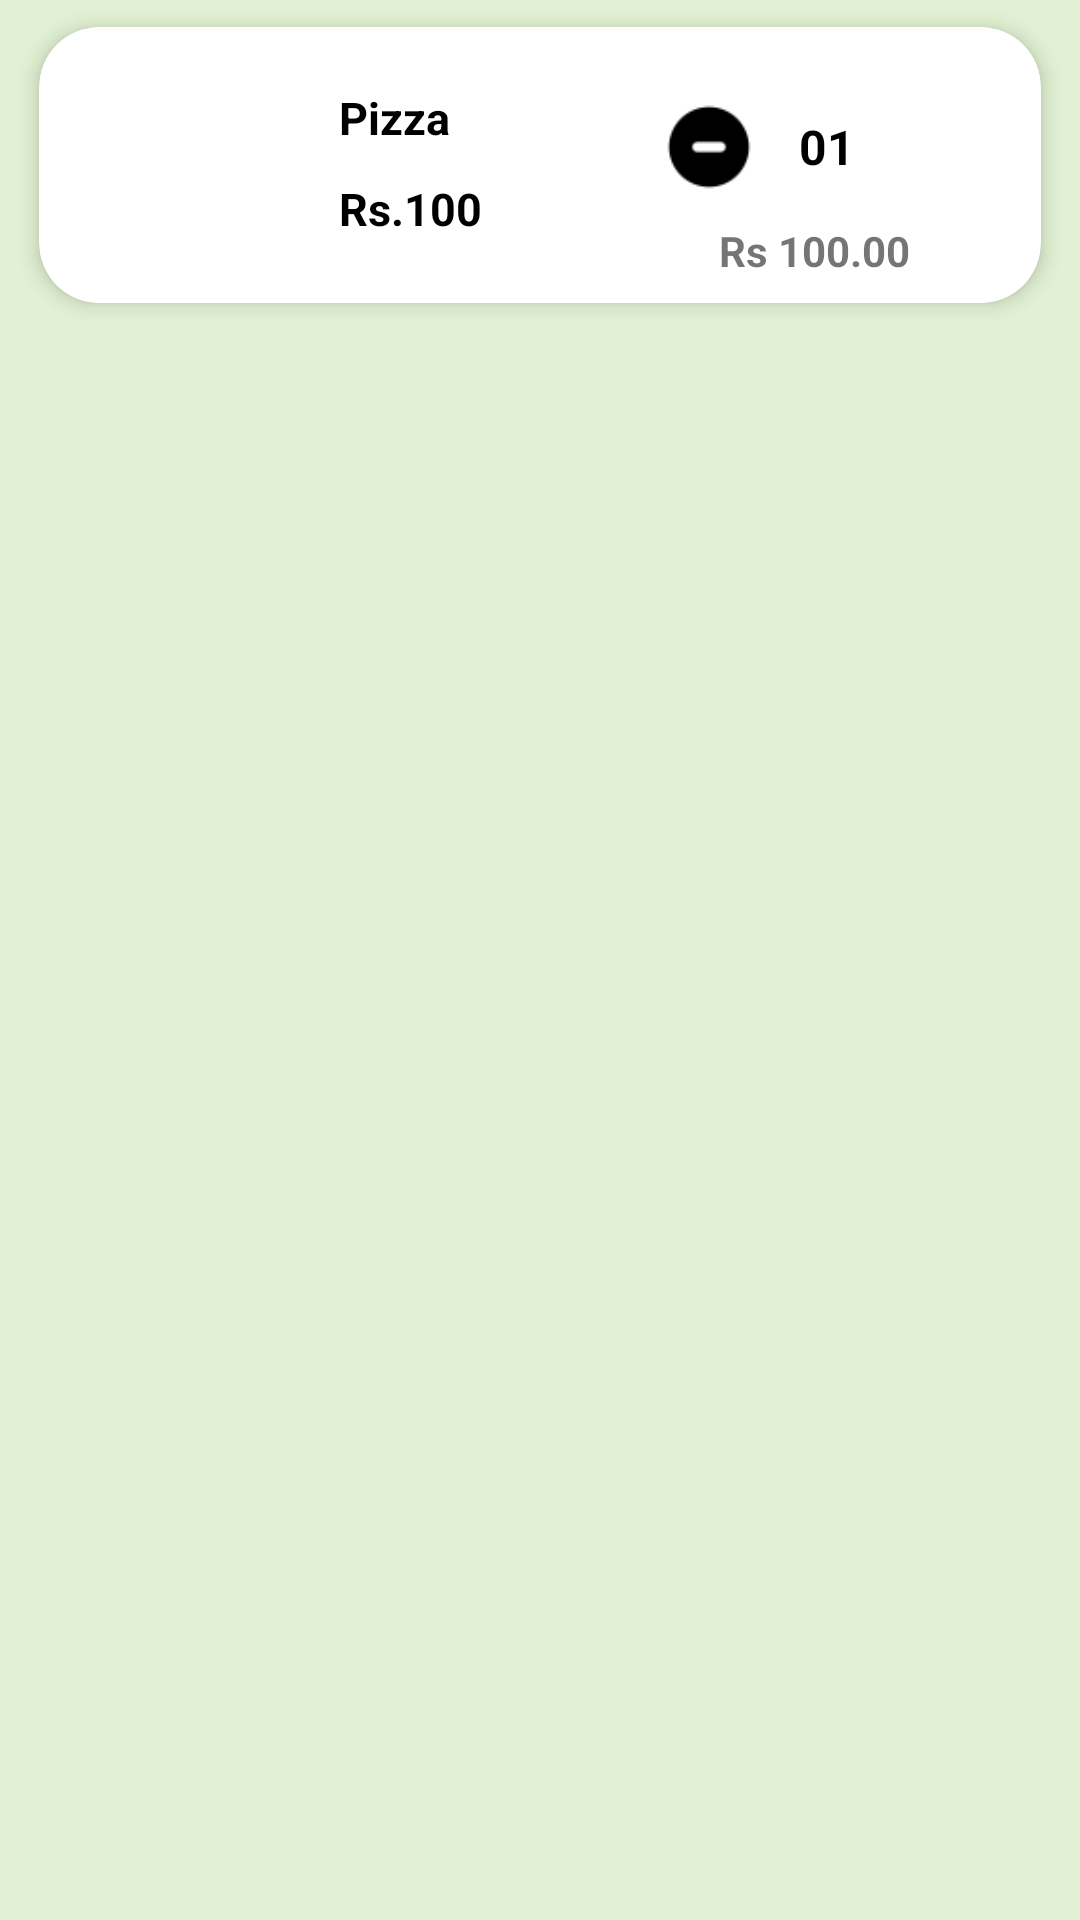

Where icons sit on this 1080 x 1920 app screen, as (x1, y1, x2, y2):
minus: (667, 105, 751, 189)
